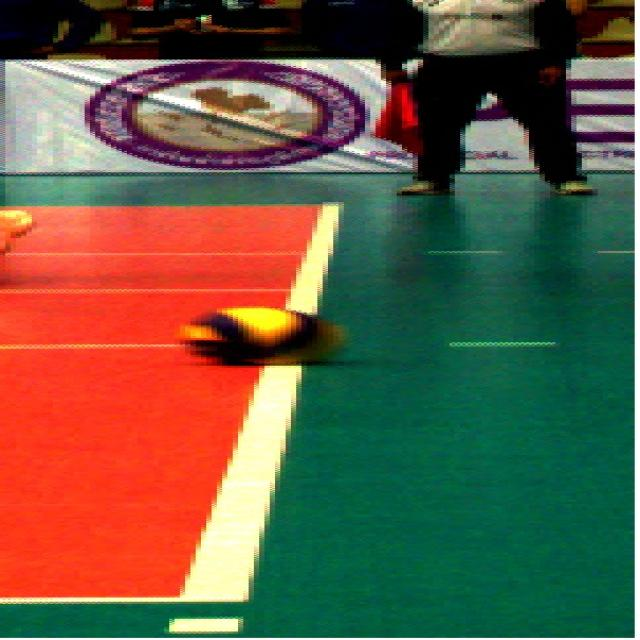Volleyball: (188, 305, 342, 366)
